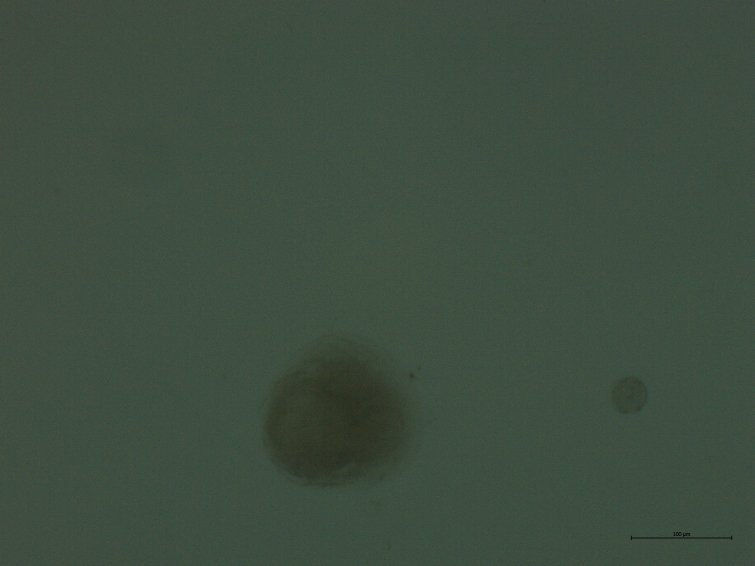oyster: (239, 319, 446, 514)
